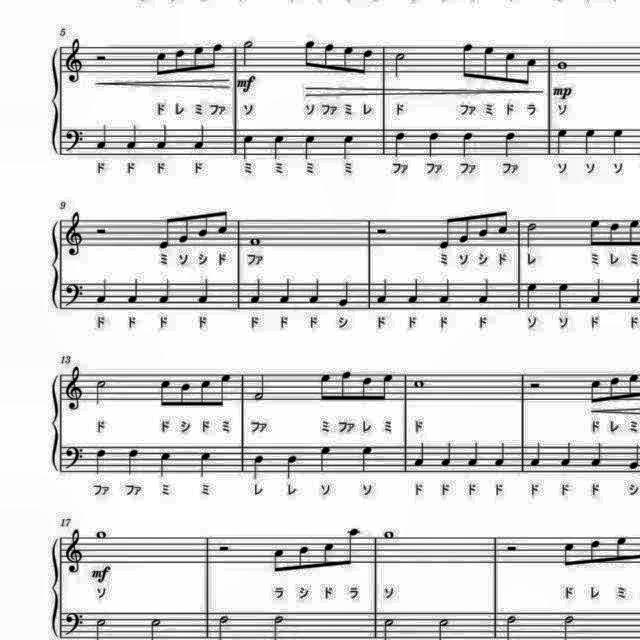Bass-clef: (63, 279, 87, 309), (64, 609, 88, 639), (63, 125, 87, 155), (64, 443, 86, 473)
Eighth-note: (343, 524, 363, 568), (459, 41, 477, 84), (480, 43, 498, 85), (501, 48, 519, 88), (154, 211, 172, 251), (154, 371, 172, 409), (435, 213, 453, 251), (269, 543, 289, 577), (215, 370, 232, 410), (292, 542, 312, 574), (318, 369, 336, 403), (521, 55, 539, 89), (151, 47, 169, 81), (198, 376, 215, 410), (338, 368, 354, 404), (320, 40, 336, 76), (613, 534, 631, 566), (586, 536, 604, 568), (378, 372, 396, 404), (560, 538, 578, 570), (299, 38, 315, 74), (319, 539, 336, 571), (456, 213, 472, 247), (176, 213, 192, 247), (584, 214, 600, 248), (358, 374, 374, 406), (494, 204, 510, 236), (214, 204, 230, 236), (477, 210, 493, 242), (340, 44, 356, 76), (606, 372, 622, 404), (584, 372, 600, 404), (196, 210, 212, 242), (358, 47, 374, 79), (208, 41, 224, 73), (172, 46, 188, 78), (606, 221, 622, 251), (624, 370, 640, 400), (190, 43, 204, 75), (626, 216, 640, 248), (178, 380, 192, 410)
Full-note: (248, 234, 264, 250), (412, 376, 428, 392), (94, 526, 110, 542), (554, 59, 570, 73), (382, 528, 398, 540)
Half-note: (90, 374, 108, 406), (251, 370, 269, 402), (213, 612, 233, 640), (270, 612, 290, 640), (500, 612, 520, 640), (391, 49, 409, 80), (239, 39, 257, 70), (560, 612, 578, 640), (524, 221, 540, 251), (146, 615, 165, 640), (436, 616, 454, 640), (379, 616, 396, 640), (94, 616, 110, 640)
Half-rest: (527, 376, 545, 392), (94, 220, 110, 236), (374, 224, 391, 238), (95, 50, 109, 66), (215, 540, 233, 552), (504, 540, 522, 552)
Quarter-note: (197, 276, 215, 308), (424, 128, 442, 160), (357, 442, 375, 474), (125, 446, 143, 478), (555, 278, 573, 310), (316, 442, 334, 474), (247, 274, 265, 306), (582, 126, 600, 158), (197, 448, 215, 479), (608, 125, 626, 156), (500, 129, 518, 159), (155, 277, 173, 307), (458, 129, 476, 159), (270, 131, 288, 161), (190, 123, 208, 153), (390, 128, 408, 158), (157, 449, 175, 479), (477, 275, 495, 305), (125, 276, 143, 306), (374, 275, 392, 305), (91, 124, 109, 154), (524, 281, 540, 313), (278, 274, 294, 306), (338, 276, 354, 308), (406, 274, 422, 306), (239, 132, 257, 160), (341, 134, 359, 162), (436, 277, 452, 307), (125, 123, 141, 153), (306, 277, 322, 307), (554, 127, 570, 157), (302, 131, 318, 161), (156, 123, 172, 153), (94, 446, 110, 476), (412, 438, 428, 468), (492, 439, 508, 469), (464, 439, 480, 469), (95, 277, 111, 307), (528, 439, 544, 468), (590, 442, 606, 471), (440, 439, 456, 468), (559, 439, 575, 468), (586, 278, 602, 306), (284, 452, 300, 480), (626, 442, 640, 474), (250, 452, 266, 480), (627, 274, 640, 305), (639, 274, 640, 305)
Treble-clef: (64, 362, 88, 413), (64, 208, 88, 258), (64, 37, 88, 87), (64, 528, 88, 576)
